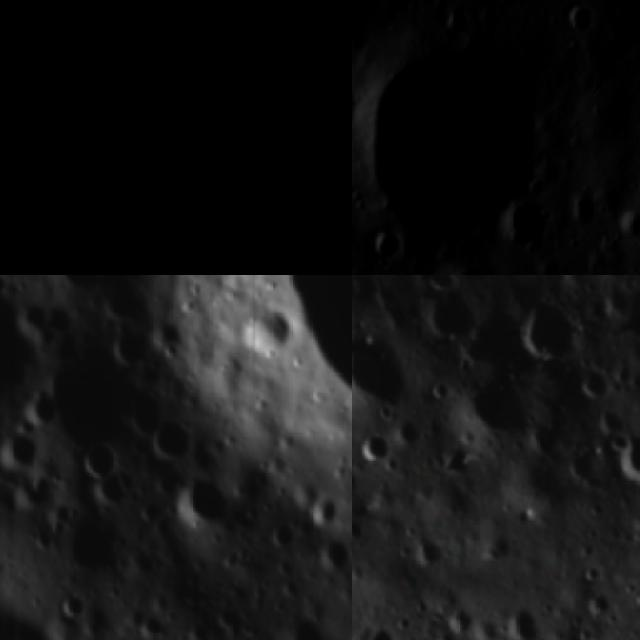crater: (136, 275, 352, 567), (352, 31, 565, 262), (456, 374, 536, 450), (56, 502, 122, 592), (352, 323, 413, 417), (522, 295, 596, 367), (458, 309, 531, 375), (295, 69, 352, 149), (172, 474, 238, 539), (497, 193, 561, 257), (266, 192, 321, 252), (428, 288, 482, 342), (118, 381, 171, 436), (148, 413, 198, 470), (362, 229, 408, 274), (0, 427, 45, 473), (82, 436, 125, 480), (218, 126, 264, 167), (497, 597, 540, 640), (580, 582, 614, 628), (566, 189, 603, 231), (615, 432, 640, 491), (436, 8, 479, 42), (409, 533, 446, 571), (577, 366, 615, 401), (614, 196, 640, 247), (359, 427, 393, 466), (54, 587, 92, 621), (277, 623, 335, 640), (417, 275, 463, 293), (352, 620, 393, 640), (285, 0, 322, 21), (487, 0, 536, 12)
